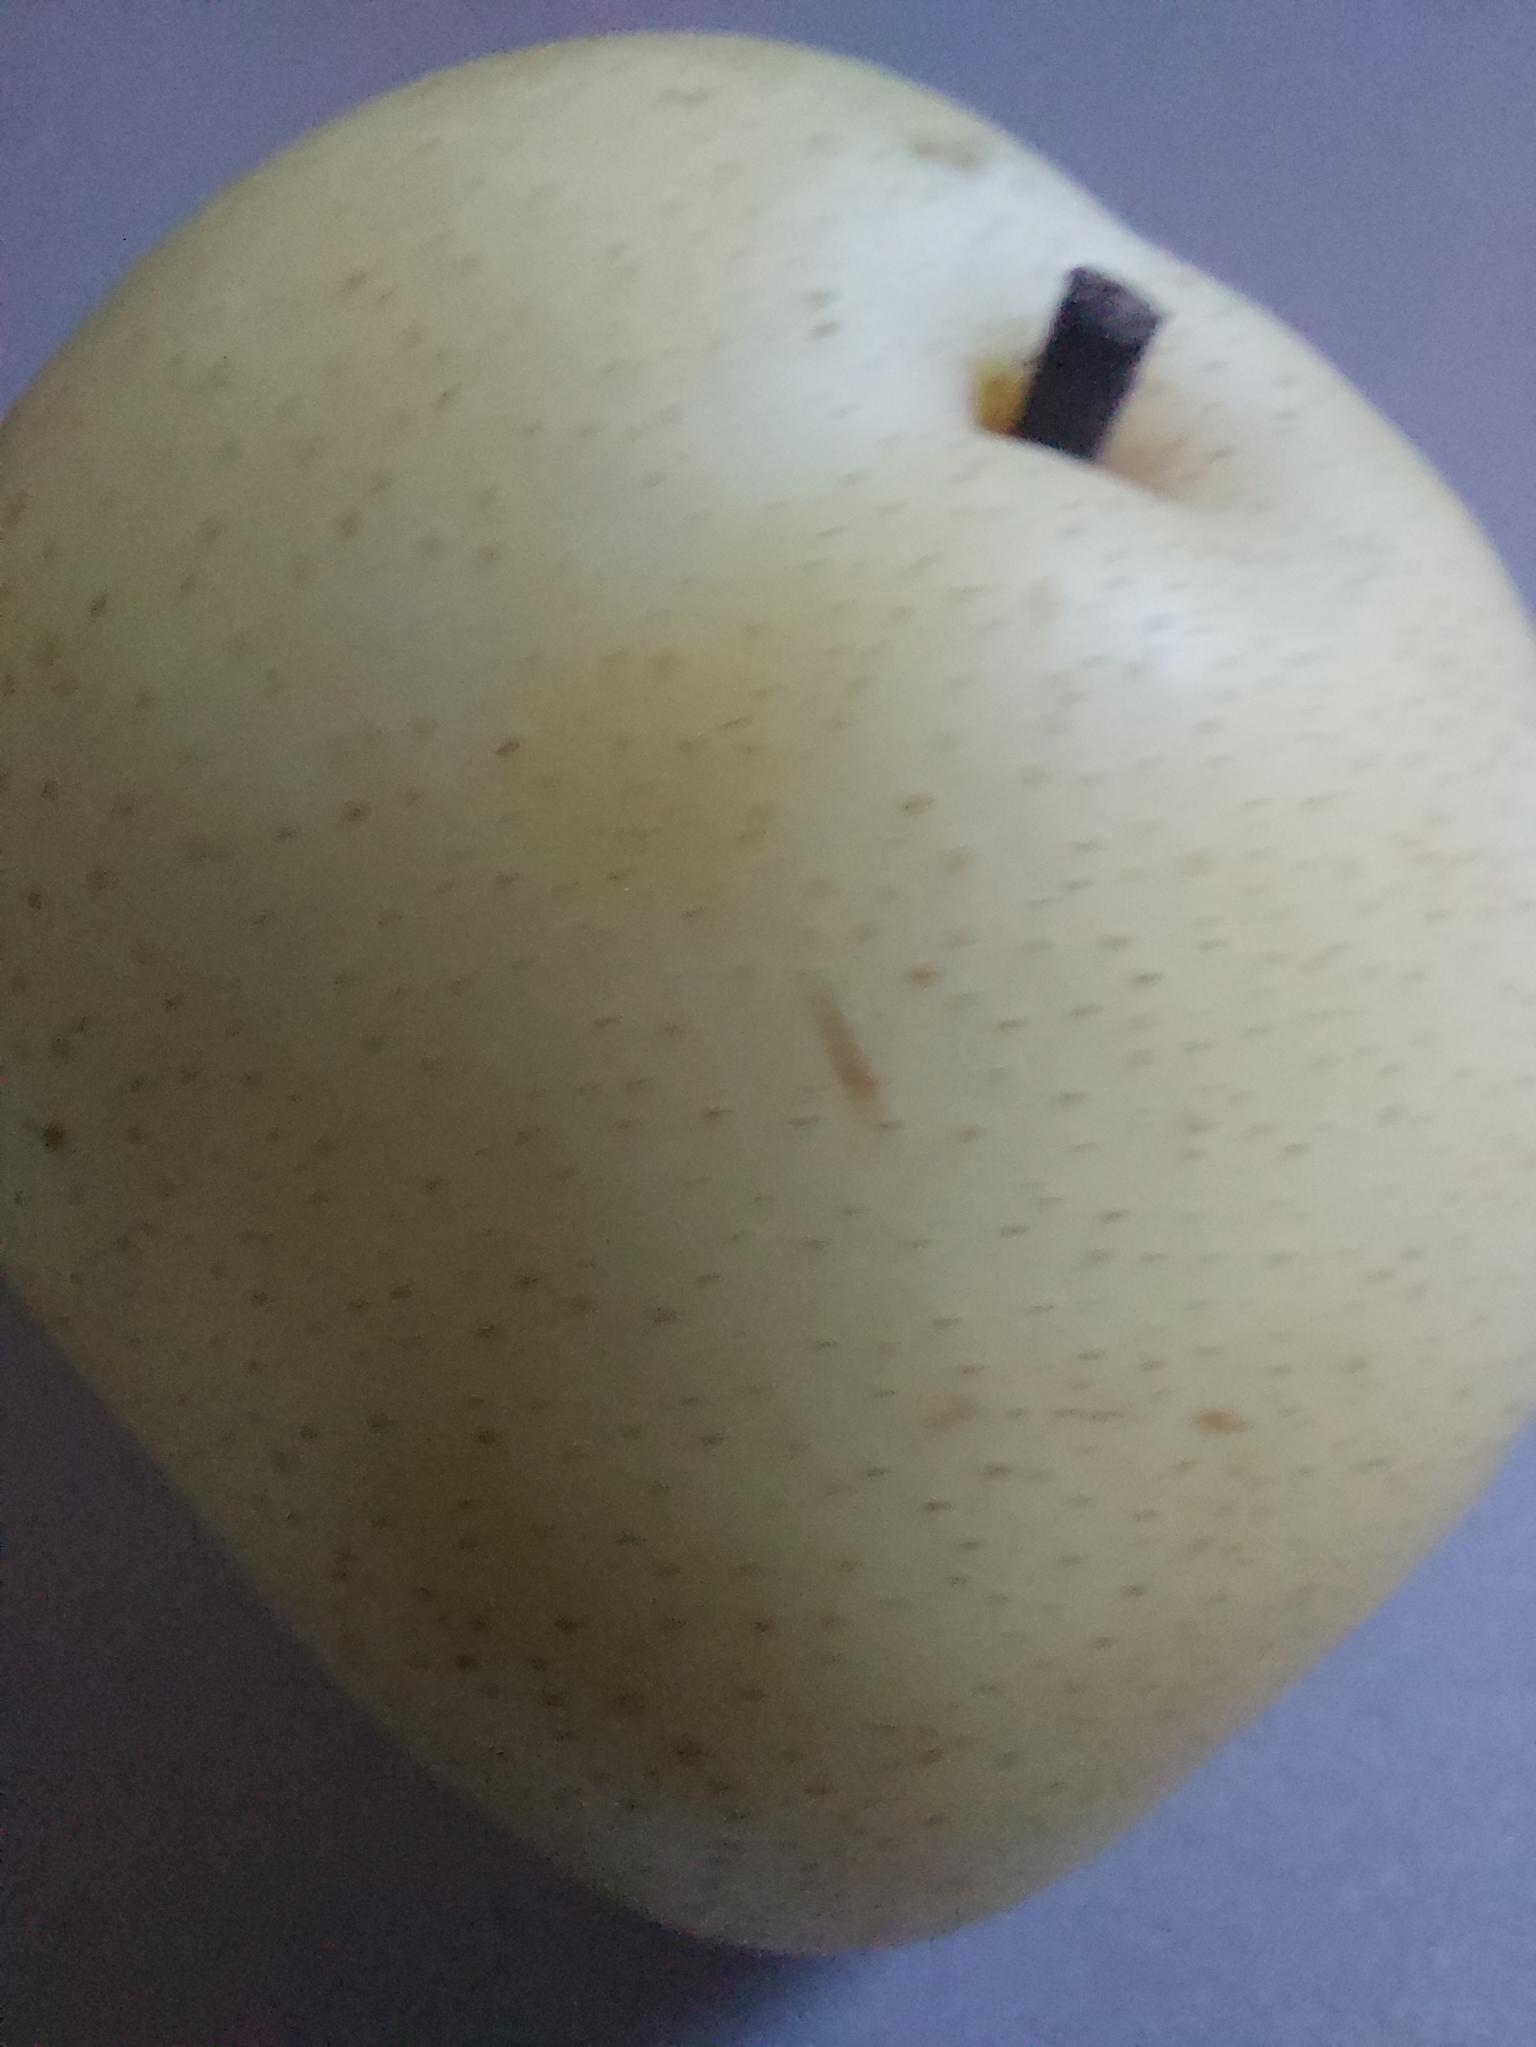Good Pear: (16, 48, 1533, 1962)
